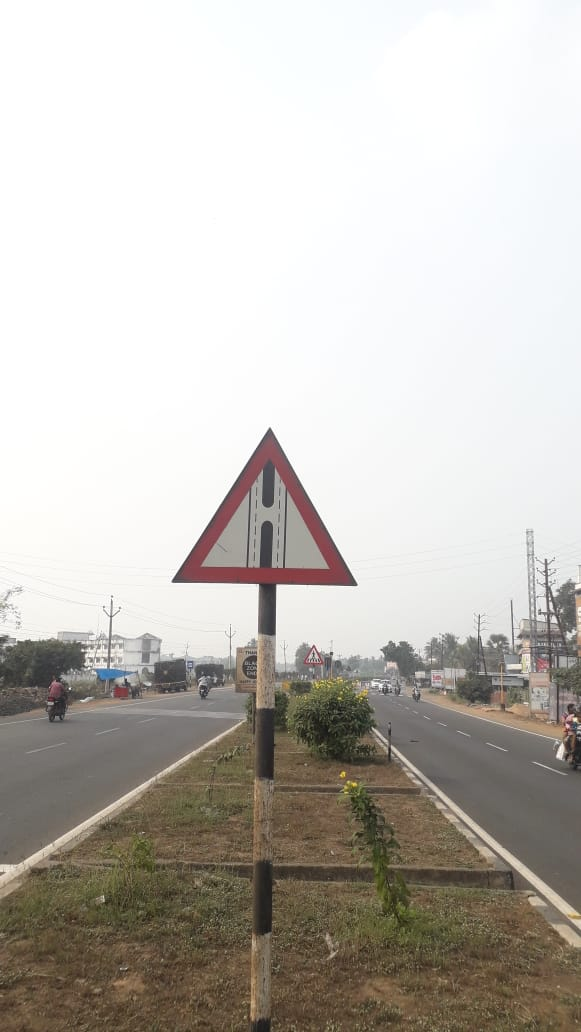highway go straight: (165, 413, 394, 614)
